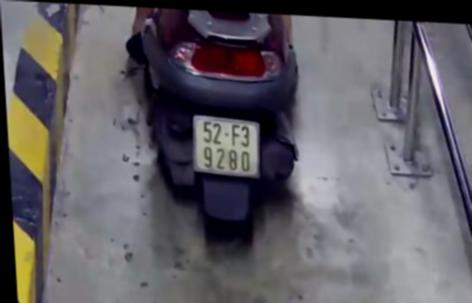License_Plate: (187, 109, 267, 184)
